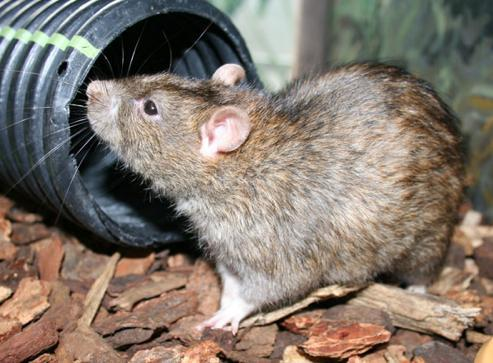rat: (86, 63, 459, 336)
